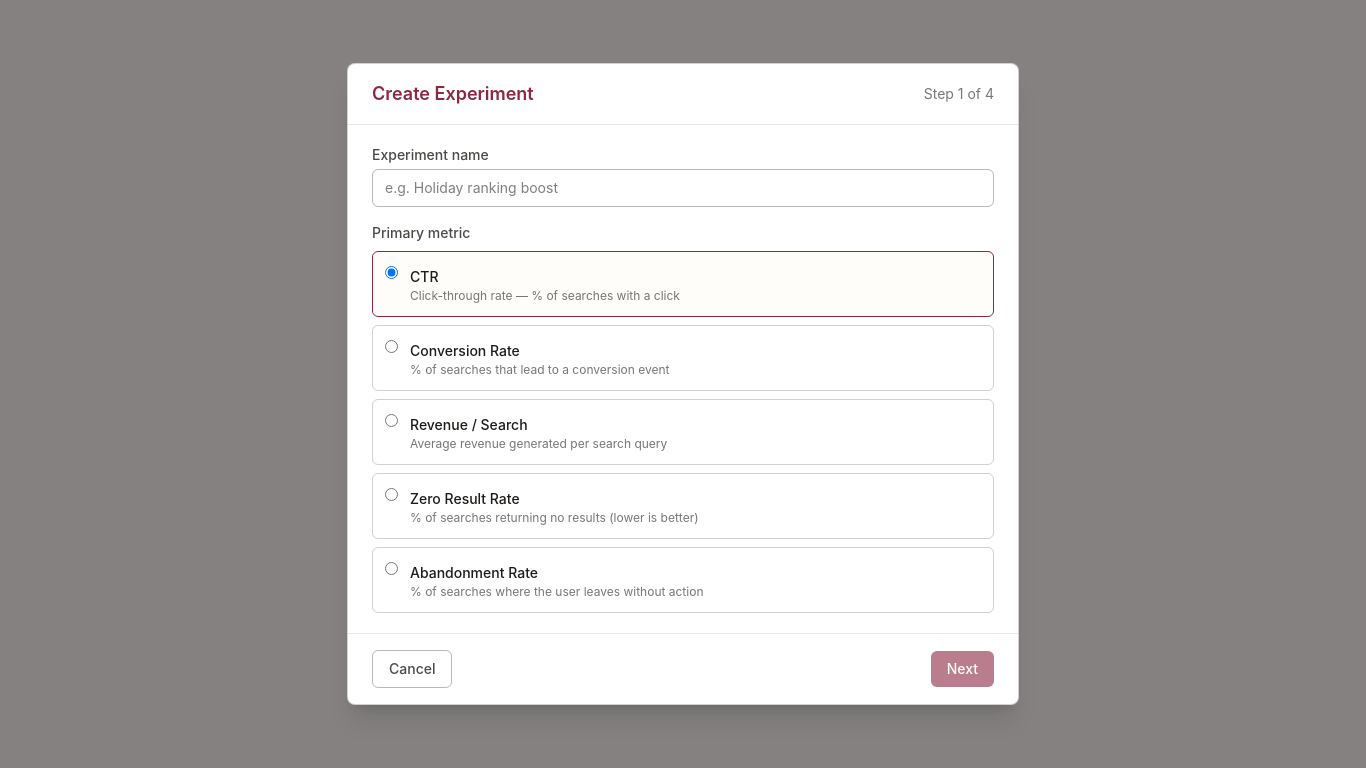
Test: CreateExperimentDialog › Step 3 — Allocation › renders runtime estimate table with correct values at 50/50 default
Type "Test" into the field labelled "Experiment name". click: (683, 188)
box: [372, 169, 994, 207]
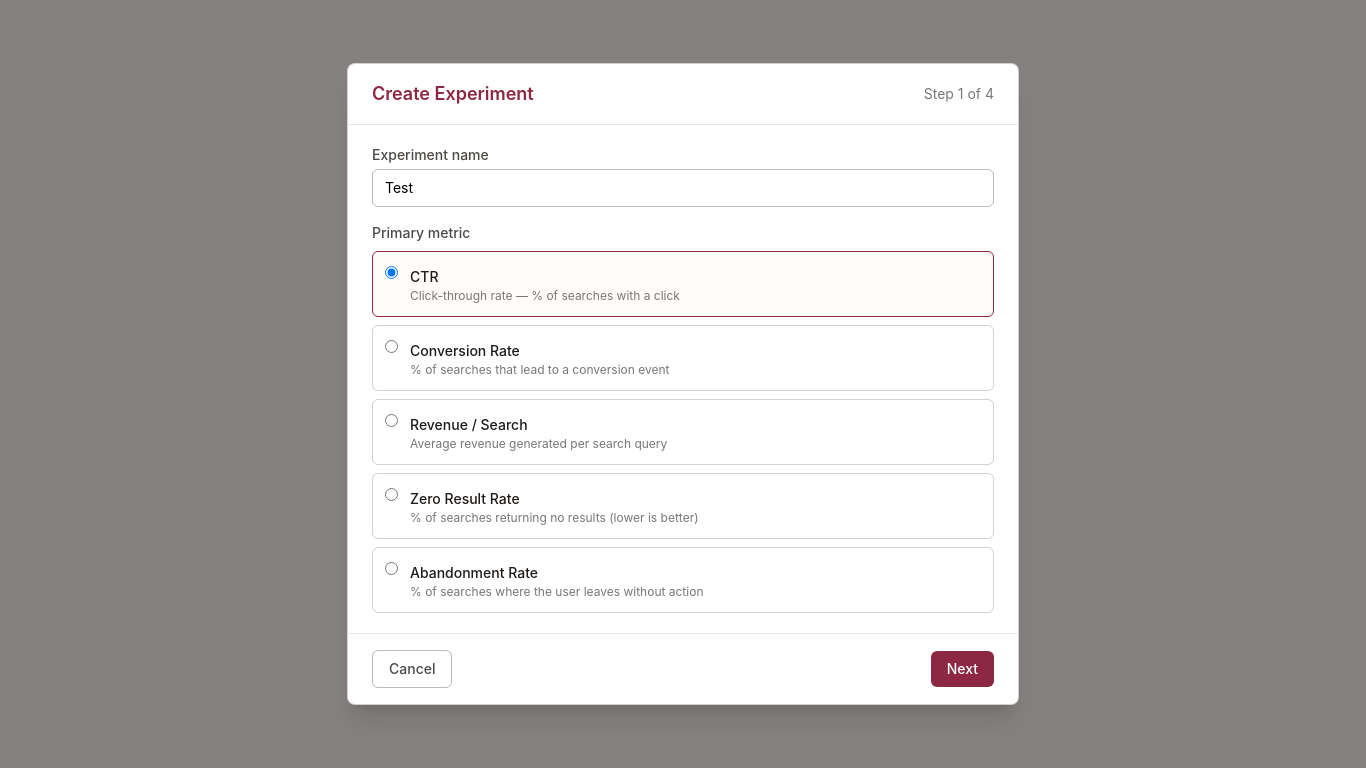
Click the button "Next". click: click(962, 669)
box: [931, 651, 994, 687]
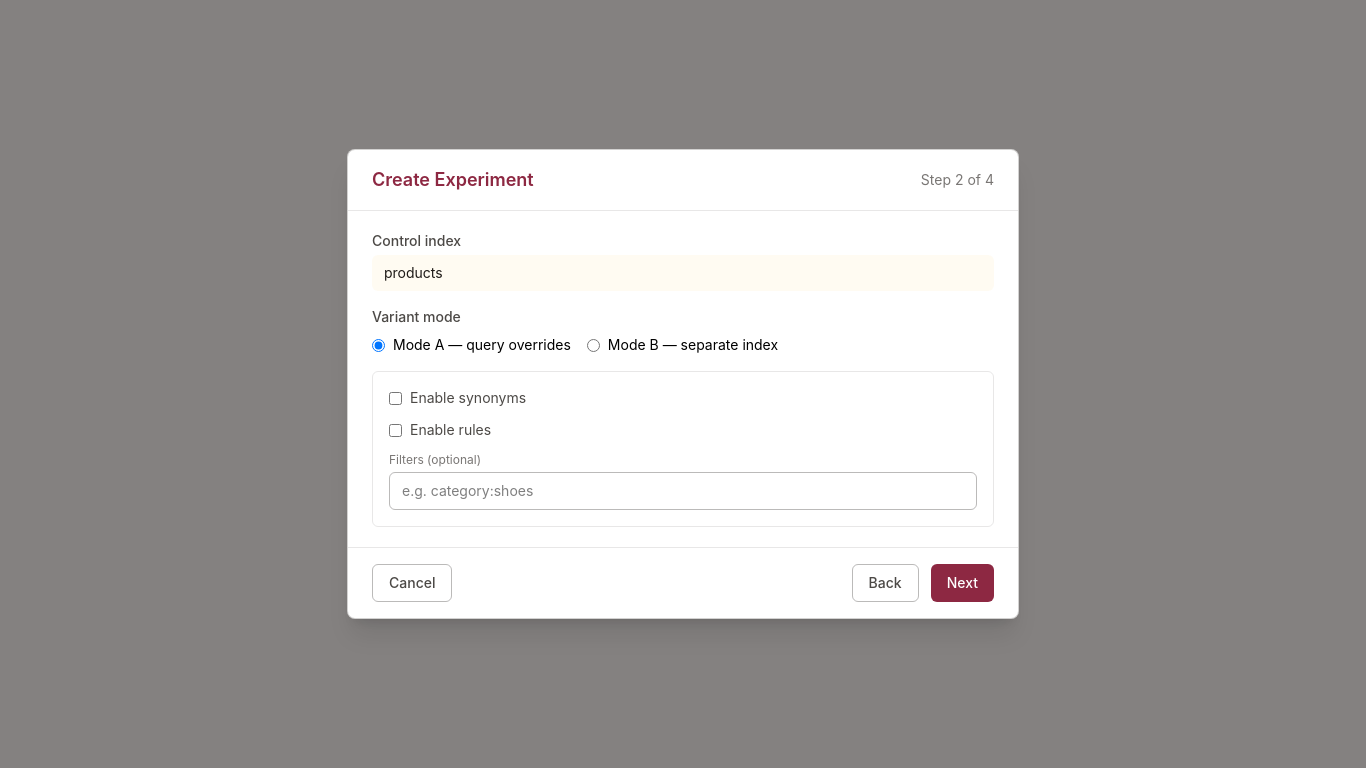
Expected: the text "Step 2 of 4" is shown, [921, 170, 994, 190]
Click the button "Next". click: click(962, 583)
box: [931, 564, 994, 602]
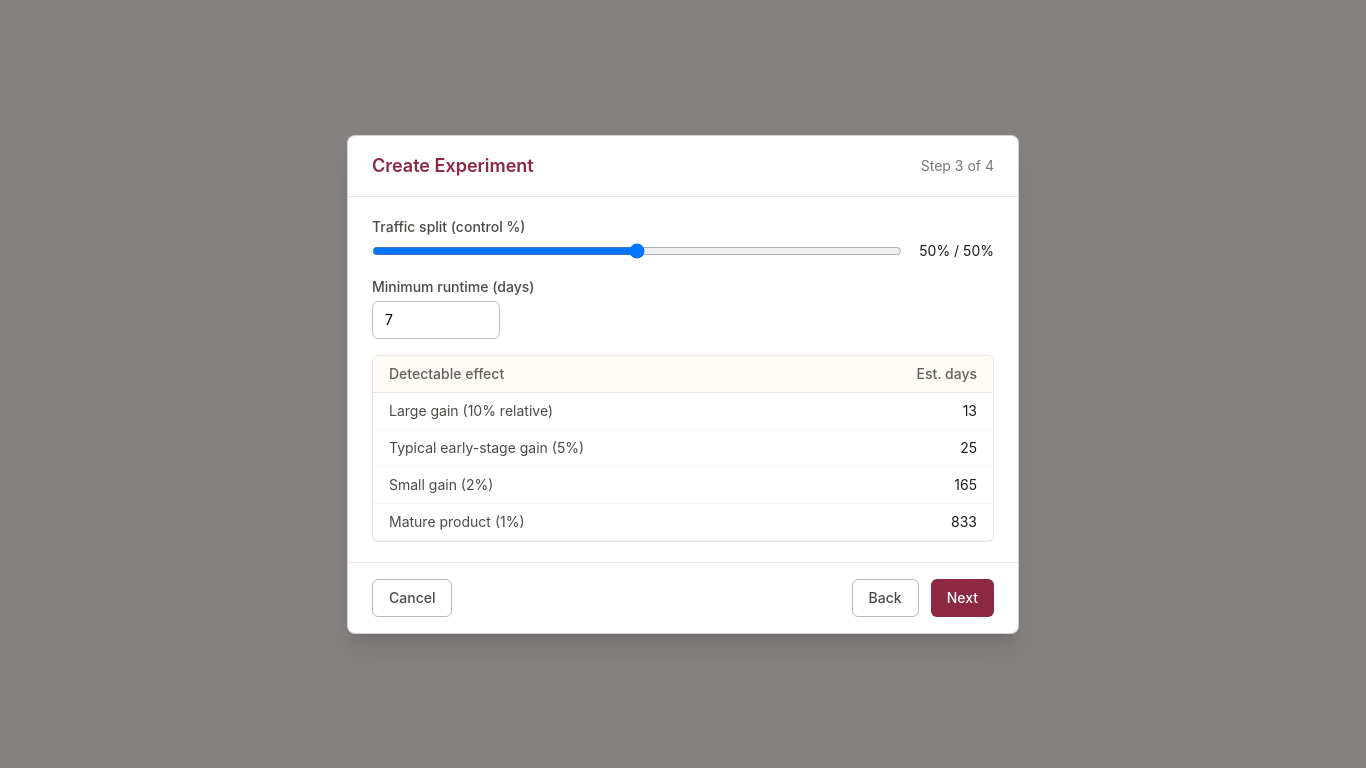
Expected: the text "Step 3 of 4" is shown, [921, 156, 994, 176]
Expected: the element with test id "runtime-estimate-table" is shown, [372, 354, 994, 542]
Expected: the element with test id "runtime-estimate-table" shows "13", [963, 402, 977, 418]
